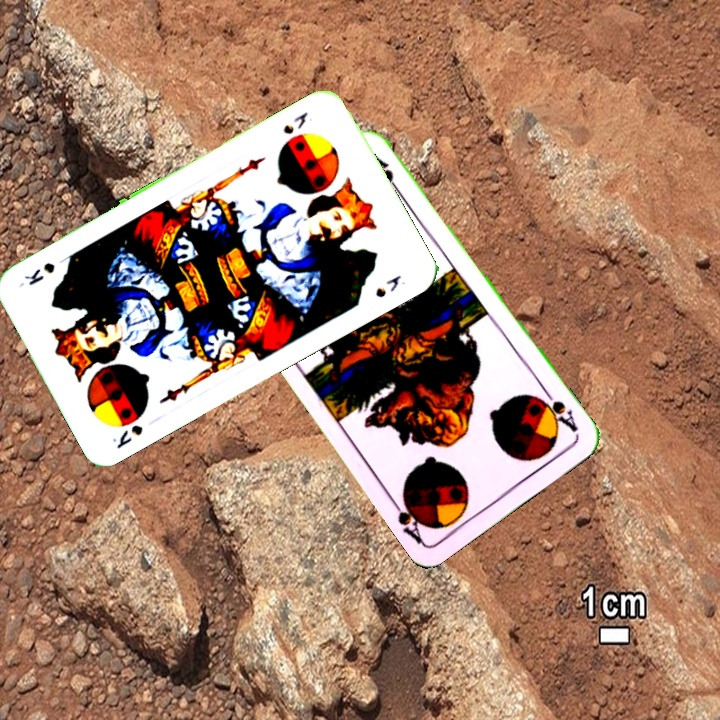SA: (532, 384, 581, 435)
SK: (108, 420, 146, 452), (279, 107, 311, 137)
